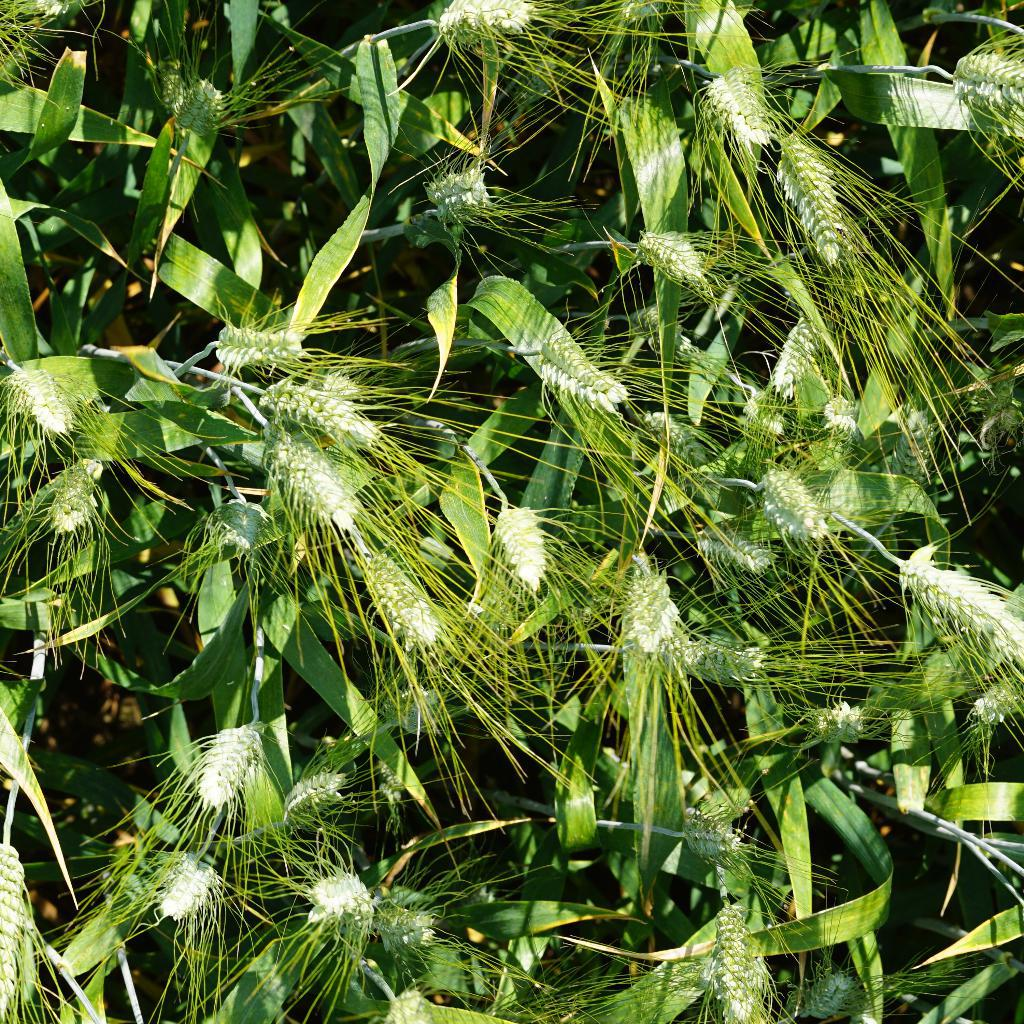0-0: (897, 544, 1024, 656), (702, 899, 791, 1024), (780, 133, 860, 268), (264, 373, 388, 458), (359, 541, 449, 658), (273, 432, 367, 535), (40, 443, 118, 548), (185, 714, 264, 815), (631, 223, 721, 301), (541, 329, 620, 417), (486, 501, 559, 595), (766, 310, 830, 417), (0, 837, 38, 1016), (197, 314, 309, 374), (761, 462, 838, 549), (680, 627, 772, 698), (617, 552, 680, 651), (686, 512, 780, 575), (6, 363, 86, 437), (712, 63, 780, 150), (159, 66, 239, 137), (301, 860, 381, 927), (154, 847, 224, 922), (279, 763, 358, 829), (680, 802, 761, 866), (949, 37, 1024, 106), (620, 302, 700, 366), (430, 156, 500, 227), (638, 391, 703, 466), (900, 393, 942, 507), (203, 491, 271, 558), (425, 0, 543, 38), (384, 896, 453, 959), (370, 679, 442, 738), (799, 964, 866, 1021), (960, 668, 1020, 731), (818, 691, 884, 744), (382, 975, 452, 1024), (737, 388, 795, 443), (819, 393, 867, 444), (371, 751, 411, 811), (627, 0, 691, 32)
